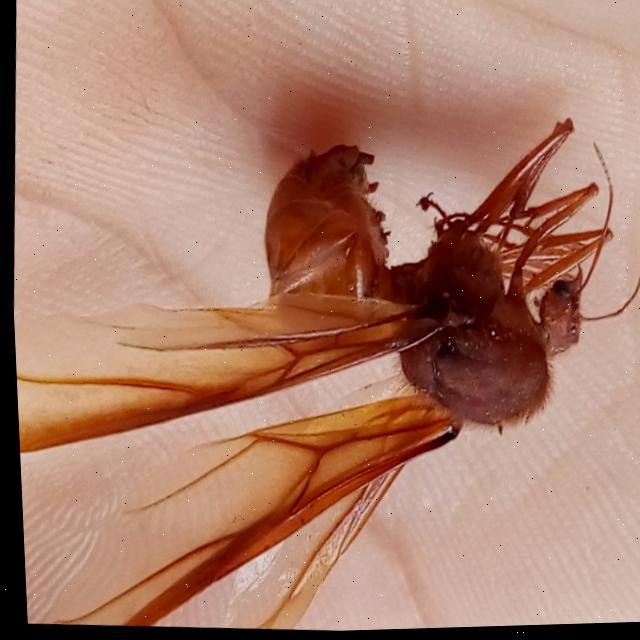Dead-Male-Alate: (4, 89, 640, 640)
